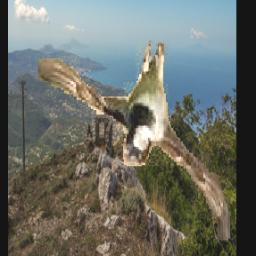Sparrow: (36, 38, 231, 240)
